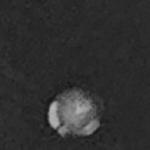colony: (43, 84, 109, 140)
